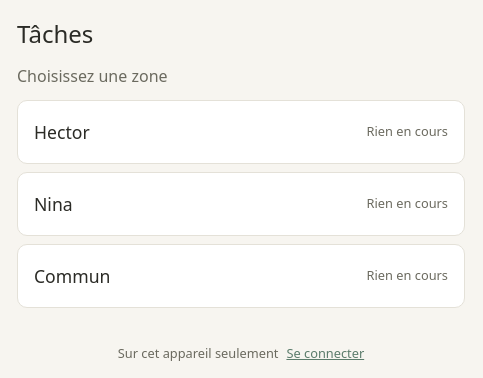
App zones › tracks XP separately per zone
Click the button "Hector Rien en cours". click: (62, 132)
box: [17,100,465,164]
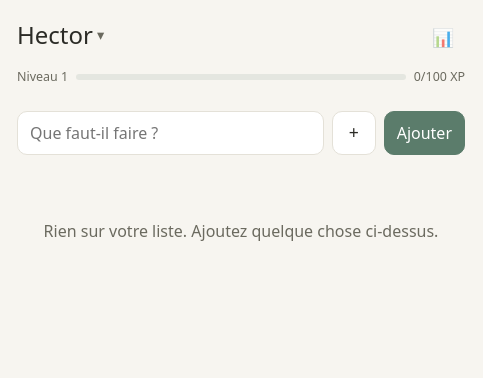
Type "Acheter du lait" into the field named "Nouvelle tâche". click: (170, 133)
box: [17,111,324,155]
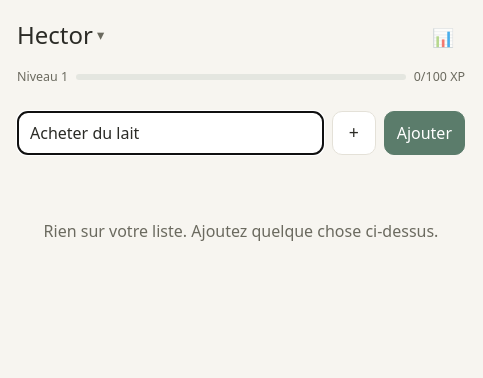
Click the button "Ajouter". click: (424, 133)
box: [384,111,465,155]
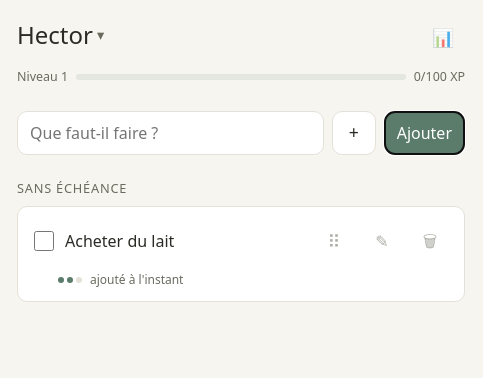
Click the checkbox. click: (44, 241)
box: [34,231,54,251]
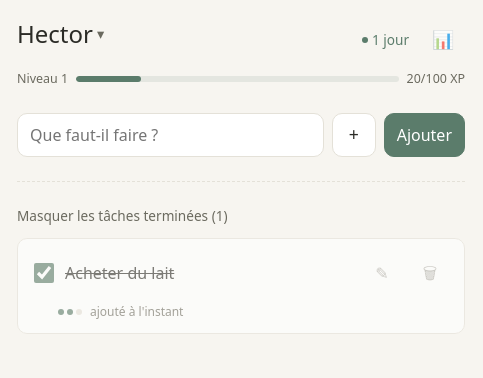
Now the text "20/100 XP" is shown, box [407,70,465,89]
Click the button "Hector ▾". click: (61, 34)
box: [17,16,104,52]
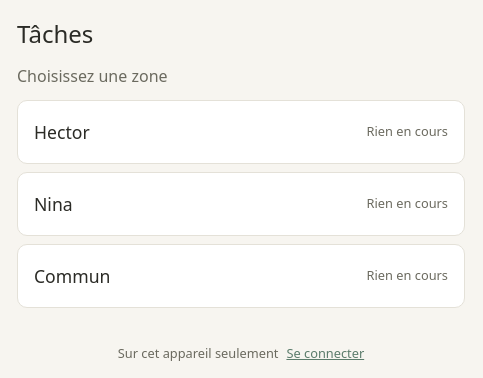
Click the button "Commun Rien en cours". click: (72, 276)
box: [17,244,465,308]
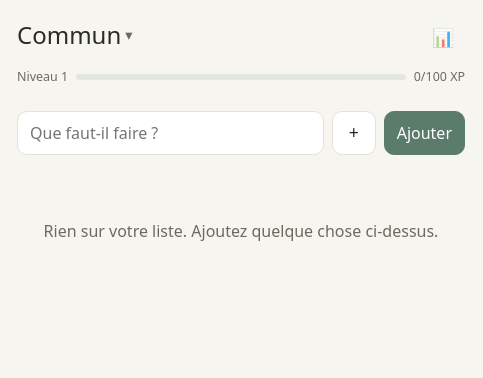
Now the text "0/100 XP" is shown, box [414,68,465,87]
